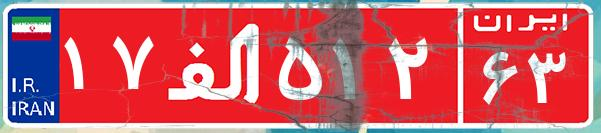1: (330, 28, 385, 110), (57, 26, 110, 107)
2: (385, 28, 445, 110)
3: (525, 38, 570, 115)
5: (273, 28, 330, 110)
6: (475, 38, 525, 113)
7: (110, 28, 158, 105)
الف: (158, 15, 273, 115)
